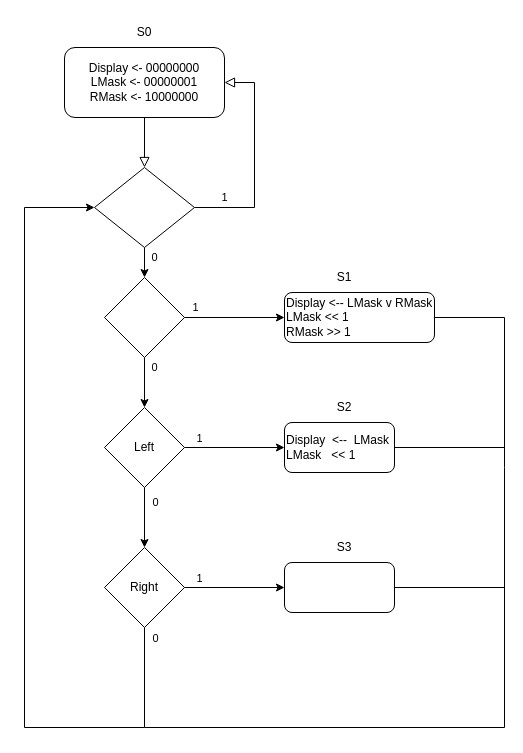
The diagram is 523 pixels wide and 753 high, and some of its shapes have lost their labels. The box of each missing label's shape, as (x1, y1, x2, y2) in pixels:
Display <-- RMask RMask >> 1: (284, 562, 394, 612)
Global Reset: (94, 166, 194, 248)
Left AND Right: (104, 276, 184, 358)
